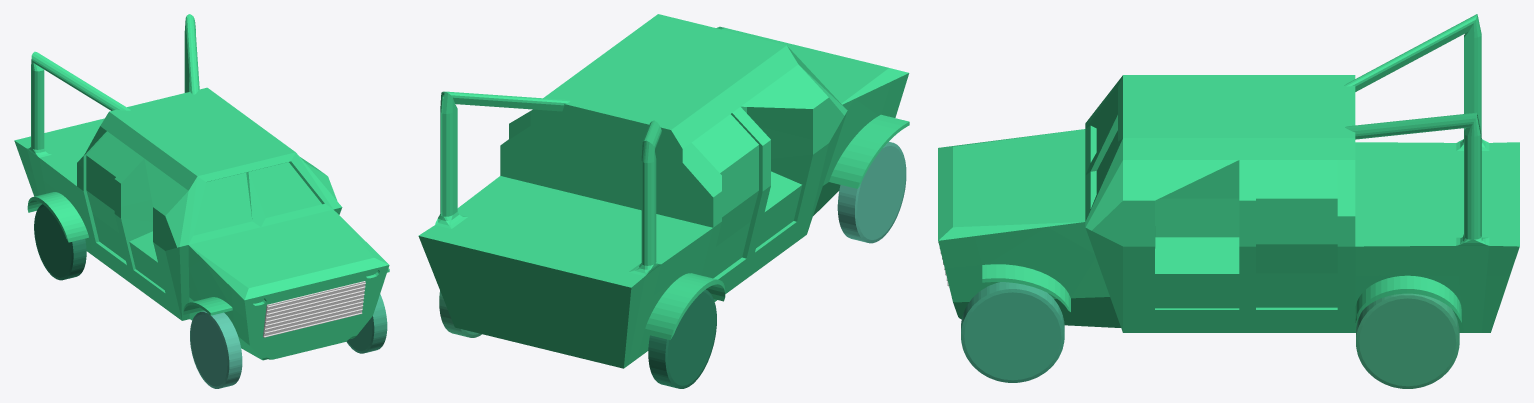
The model's file is BattleCar.fbx.
3 renders of one model, left to right at view 1: azimuth 30°, elevation 25°; view 2: azimuth 150°, elevation 25°; view 3: azimuth 270°, elevation 25°, orthographic. The views are drawn at different scales.
Parts seen in each view (by area): view 1: Cube, Куб, Cylinder.001, Cylinder, Cylinder.002; view 2: Cube, Cylinder.001, Cylinder, Cylinder.003; view 3: Cube, Cylinder.002, Cylinder.003.
Boxes of the visible parts, left/top/right/bottom form: Cube: left=14, top=14, right=389, bottom=360; Куб: left=263, top=281, right=365, bottom=337; Cylinder.001: left=190, top=311, right=242, bottom=388; Cylinder: left=34, top=204, right=86, bottom=280; Cylinder.002: left=346, top=294, right=387, bottom=353; Cube: left=418, top=14, right=909, bottom=368; Cylinder.001: left=837, top=142, right=906, bottom=243; Cylinder: left=648, top=289, right=716, bottom=388; Cylinder.003: left=439, top=291, right=481, bottom=337; Cube: left=938, top=14, right=1519, bottom=332; Cylinder.002: left=961, top=282, right=1064, bottom=382; Cylinder.003: left=1356, top=293, right=1459, bottom=388.
Bounding box in the file's own units: 359 × 367 × 719.
